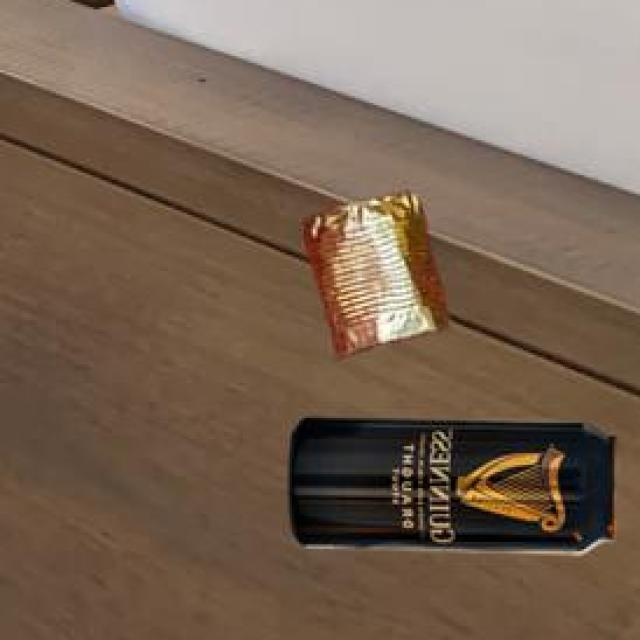logam: (293, 415, 619, 550), (307, 190, 450, 352)
